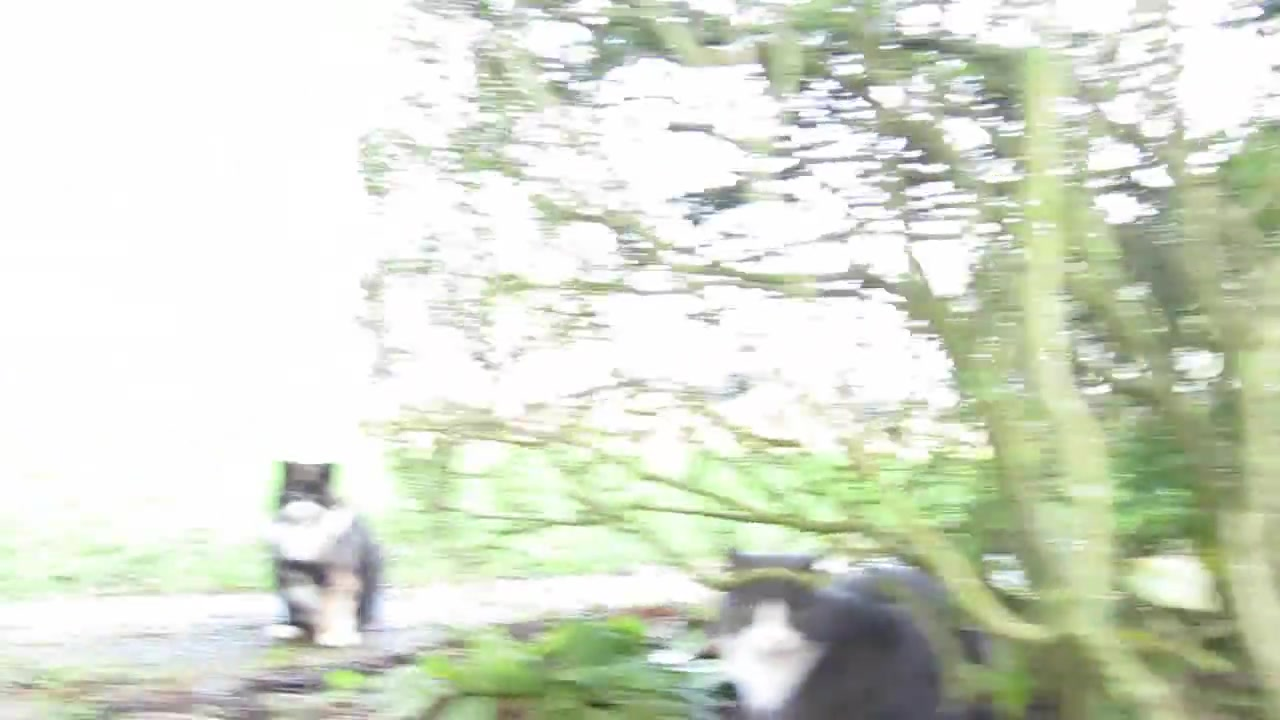cat: (268, 460, 381, 647)
